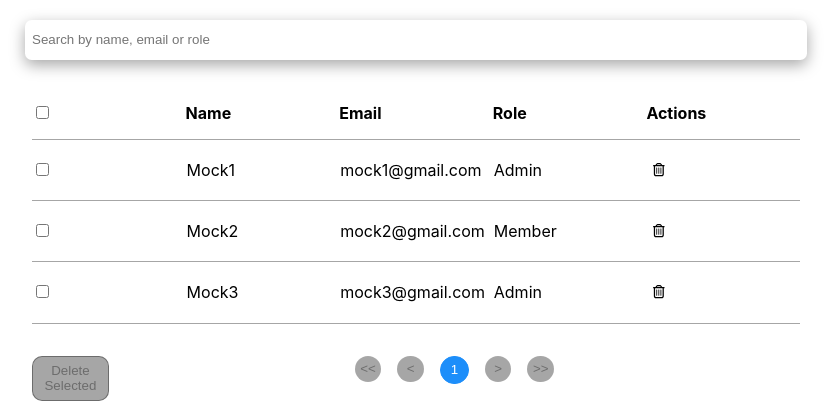
Test: Delete All users › Users should be selected using select all and deleted on Delete Selected button click
The image size is (833, 418).
Expected: the button with test id "delete-selected" is disabled, [32, 356, 109, 401]
Expected: the number of rows with test id "user-row" is 3, [32, 139, 800, 200]; [32, 200, 800, 262]; [32, 262, 800, 323]
Click the checkbox with test id "select-all": (42, 112) [36, 106, 49, 119]
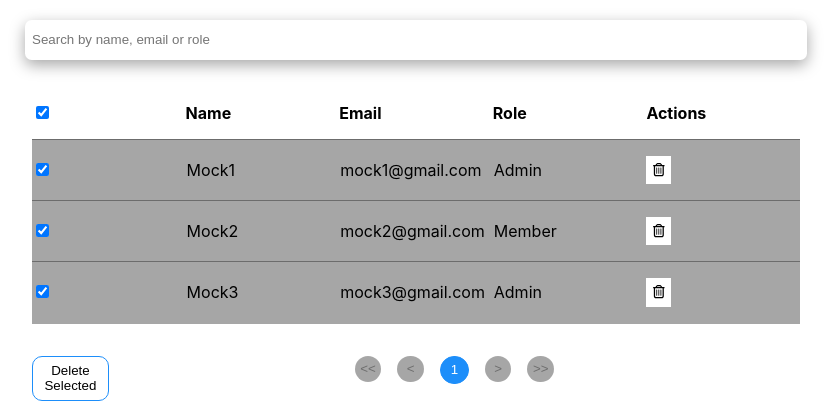
Expected: the button with test id "delete-selected" is enabled
Click the button with test id "delete-selected": (70, 378) [32, 356, 109, 401]
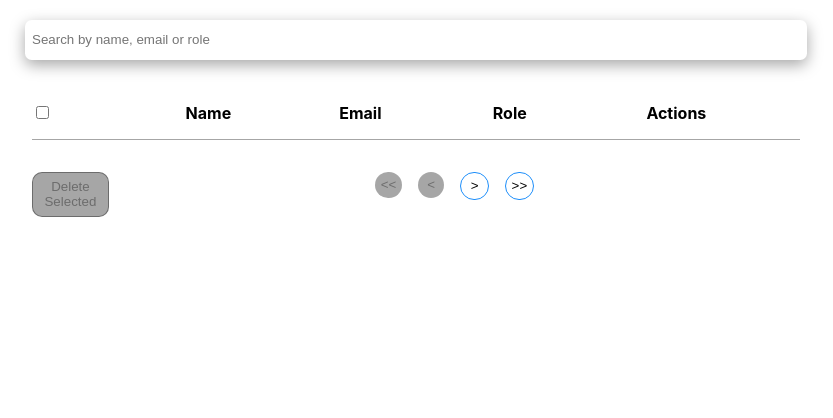
Expected: the row with test id "user-row" is gone
